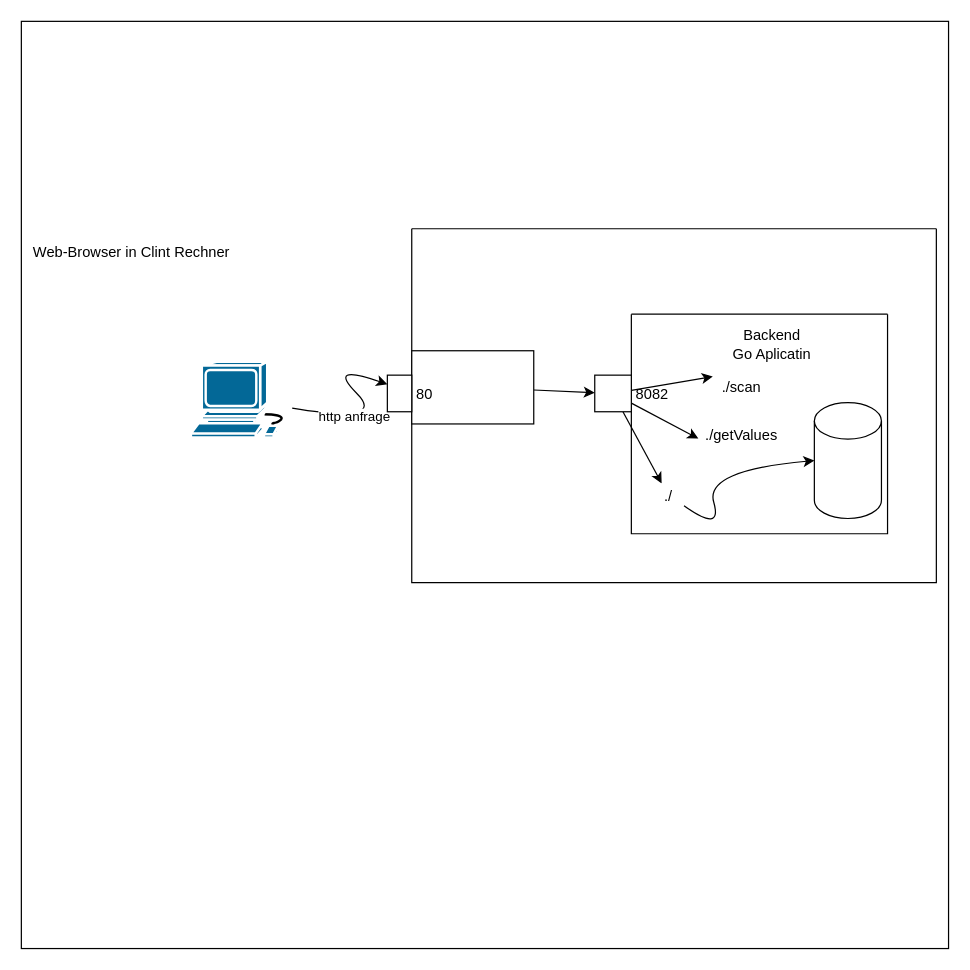
The diagram is 970 pixels wide and 970 high, and some of its shapes have lost their labels. The centre of each missing label's shape, as x and y in pixels:
"Flutter Aplication" belongs at (847,459).
"nginx reverse proxy" belongs at (472,387).
